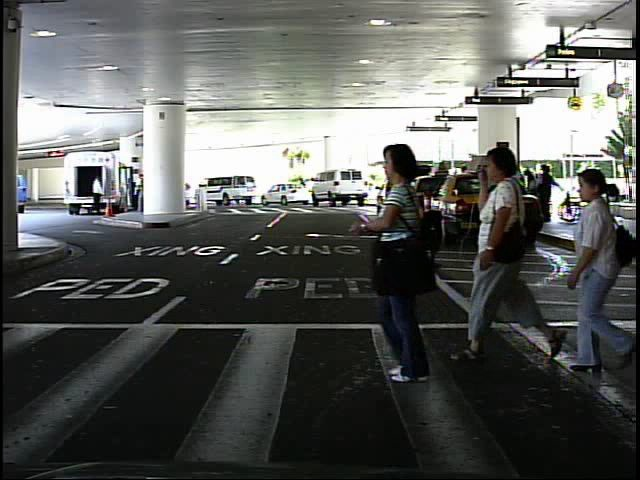person: (367, 132, 464, 388), (464, 134, 565, 371), (549, 168, 635, 376), (88, 170, 107, 220), (605, 172, 606, 217)
